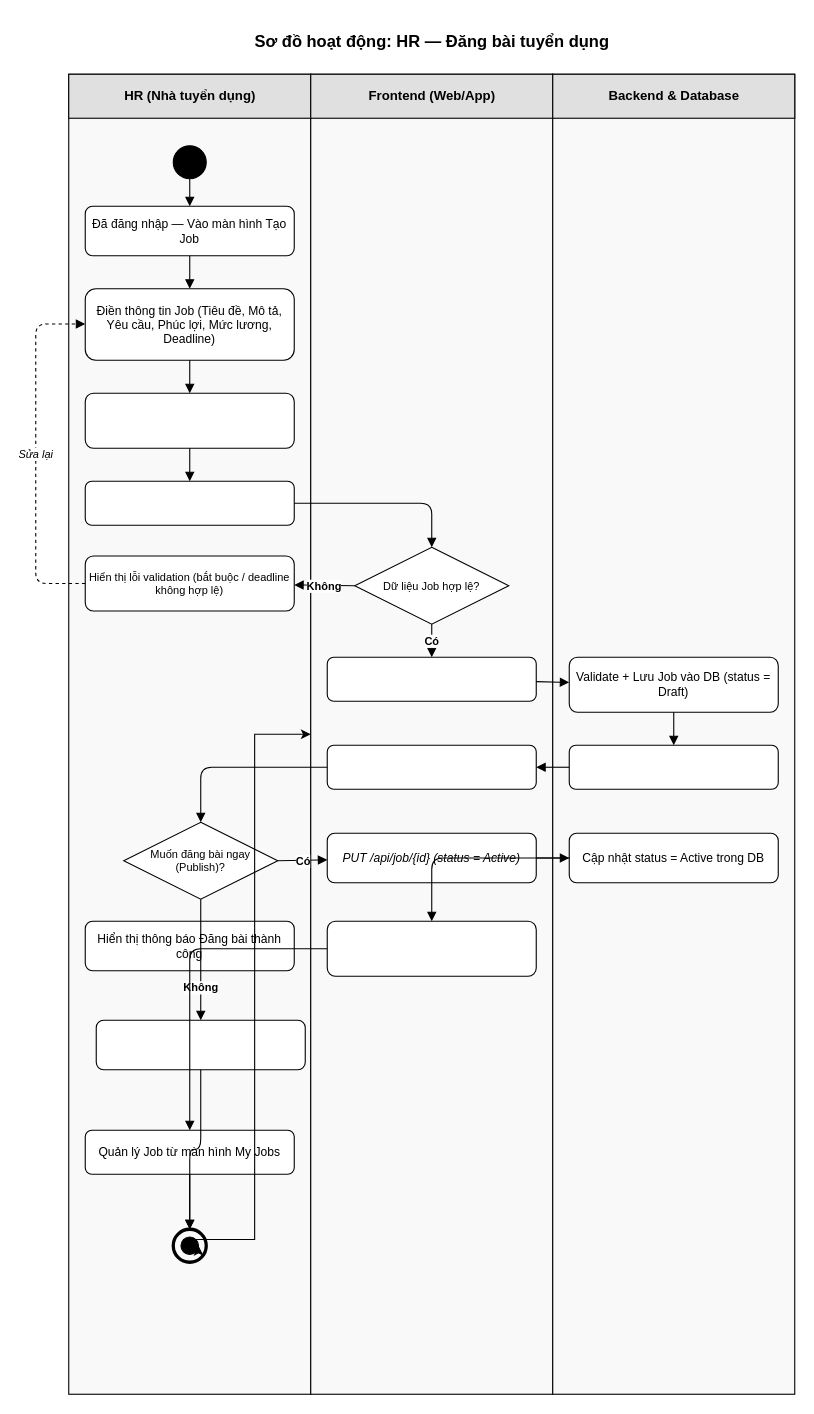
This 814x1414 diagram has some shape labels left out. Each missing label, with the centre of its shape:
"Chọn Category, Location, JobType + Gắn Skills" goes at (189,420).
"Giữ trạng thái Draft (Chưa hiển thị)" goes at (200,1044).
"Hiển thị Job đã tạo ở trạng thái Draft" goes at (431,766).
"Hiển thị thông báo thành công + Về danh sách Jobs" goes at (431,948).
"Nhấn nút Lưu / Đăng" goes at (189,502).
"POST /api/job" goes at (431,678).
"Trả về Job vừa tạo (id, slug)" goes at (673,766).
